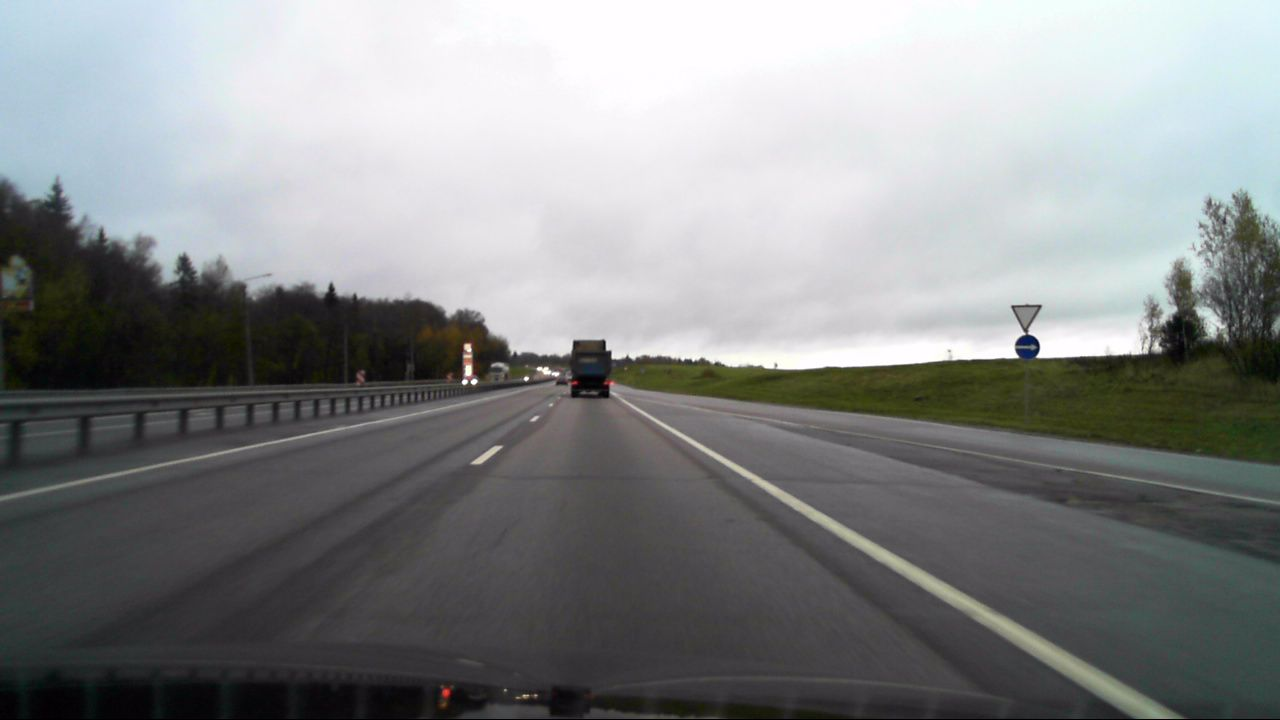Turn Right: (1014, 334, 1040, 359)
